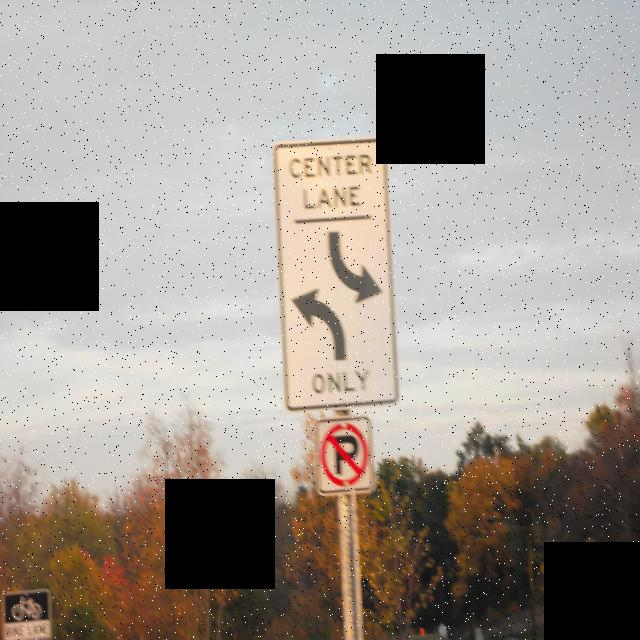regulatory: (263, 128, 404, 415)
